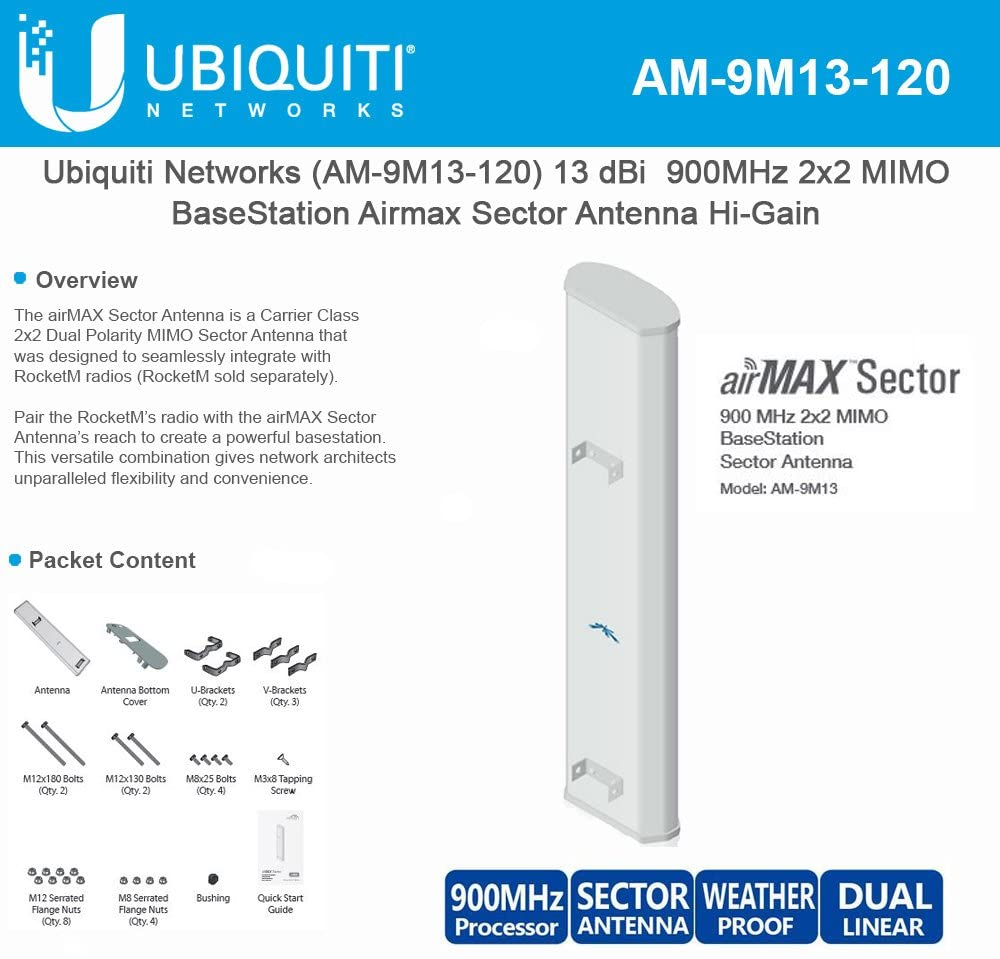sa: (534, 241, 696, 839)
